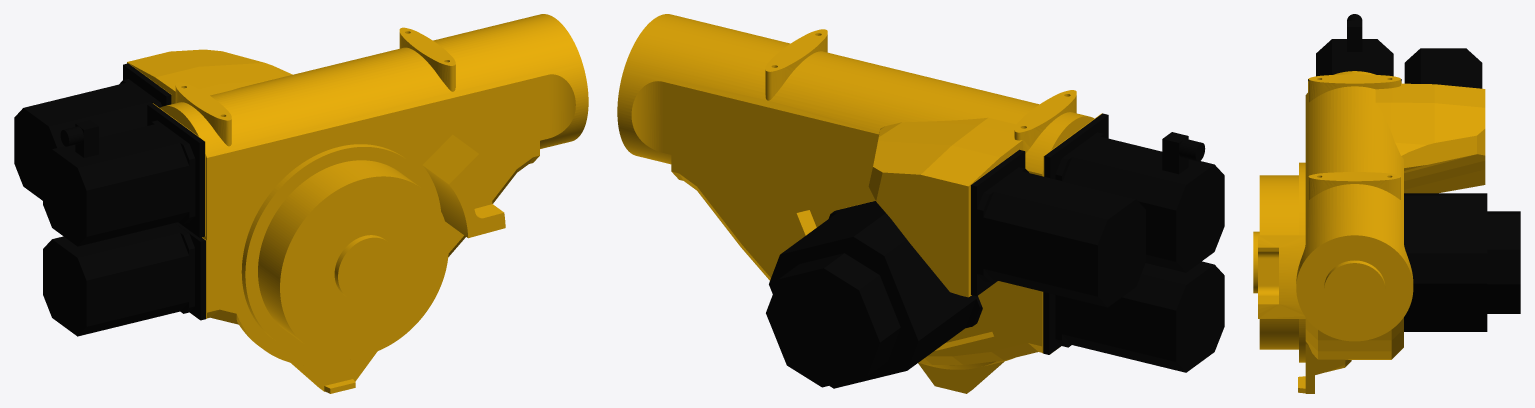
The picture shows the model from 3 angles, left to right: view 1: azimuth 30°, elevation 25°; view 2: azimuth 150°, elevation 25°; view 3: azimuth 270°, elevation 25°; orthographic projection. The views are drawn at different scales.
Visible parts, largest first — view 1: node3, node4, node2, node0; view 2: node3, node1, node0, node4, node2; view 3: node3, node1, node4, node0.
Part boxes in pixels (x1,y1,x2,y2): node3: (127, 14, 588, 393); node4: (43, 103, 204, 246); node2: (43, 222, 205, 336); node0: (14, 63, 171, 200); node3: (617, 14, 1102, 393); node1: (766, 201, 982, 388); node0: (971, 149, 1145, 307); node4: (1044, 113, 1224, 272); node2: (1043, 261, 1224, 372); node3: (1253, 71, 1485, 393); node1: (1404, 193, 1520, 331); node4: (1308, 14, 1401, 81); node0: (1404, 48, 1482, 88).
Bounding box in the file's own units: 0.833 × 0.4335 × 0.477.
